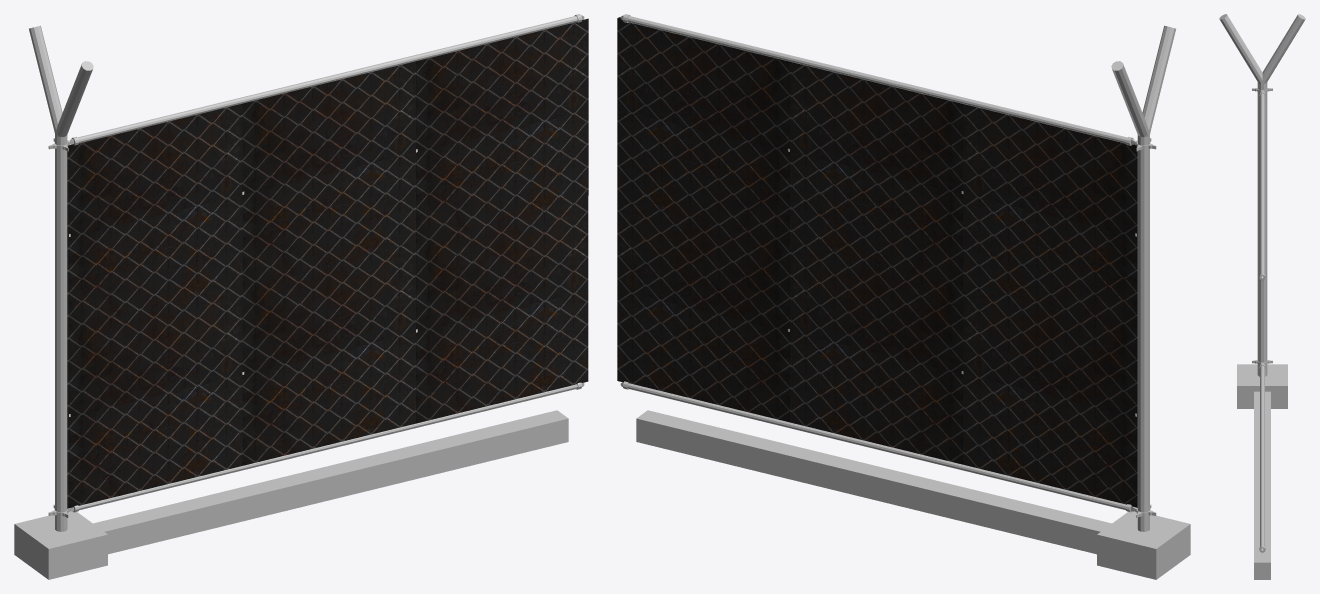
The model's file is SM_Metal_Fence.fbx.
3 views of the same model, side by side, from view 1: azimuth 30°, elevation 25°; view 2: azimuth 150°, elevation 25°; view 3: azimuth 270°, elevation 25° (orthographic). The views are drawn at different scales.
Visible parts, largest first — view 1: SM_Metal_Fence; view 2: SM_Metal_Fence; view 3: SM_Metal_Fence.
Boxes of the visible parts, <box> form: SM_Metal_Fence: <box>14,14,588,579</box>; SM_Metal_Fence: <box>617,14,1190,579</box>; SM_Metal_Fence: <box>1219,14,1305,579</box>.
Bounding box in the file's own units: 418 × 371 × 76.08.
